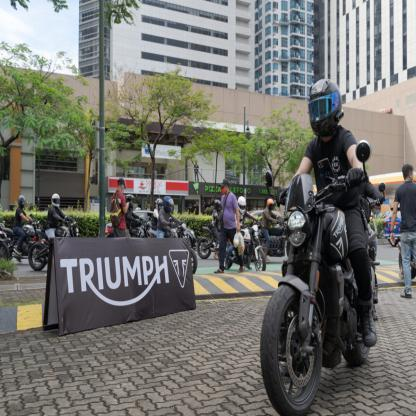helmet: (308, 79, 344, 137), (237, 196, 247, 215), (163, 196, 174, 213), (51, 193, 61, 207), (17, 195, 26, 209)
nohelmet: (400, 162, 415, 184), (216, 178, 231, 196)
